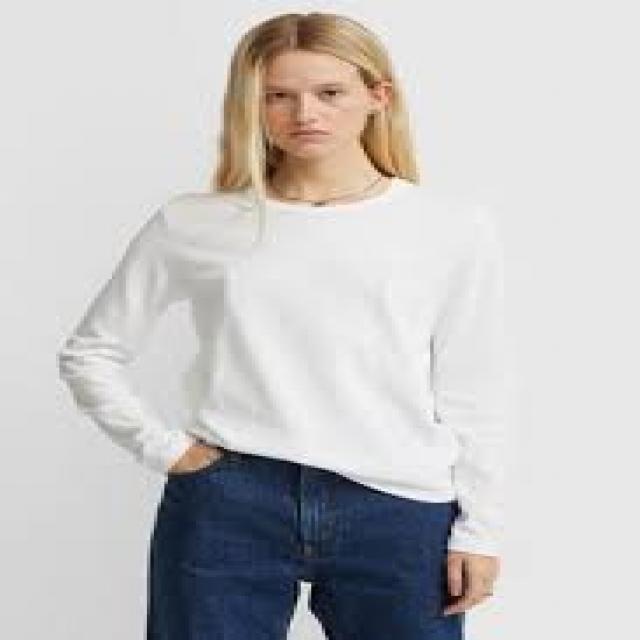plain: (61, 183, 526, 493)
